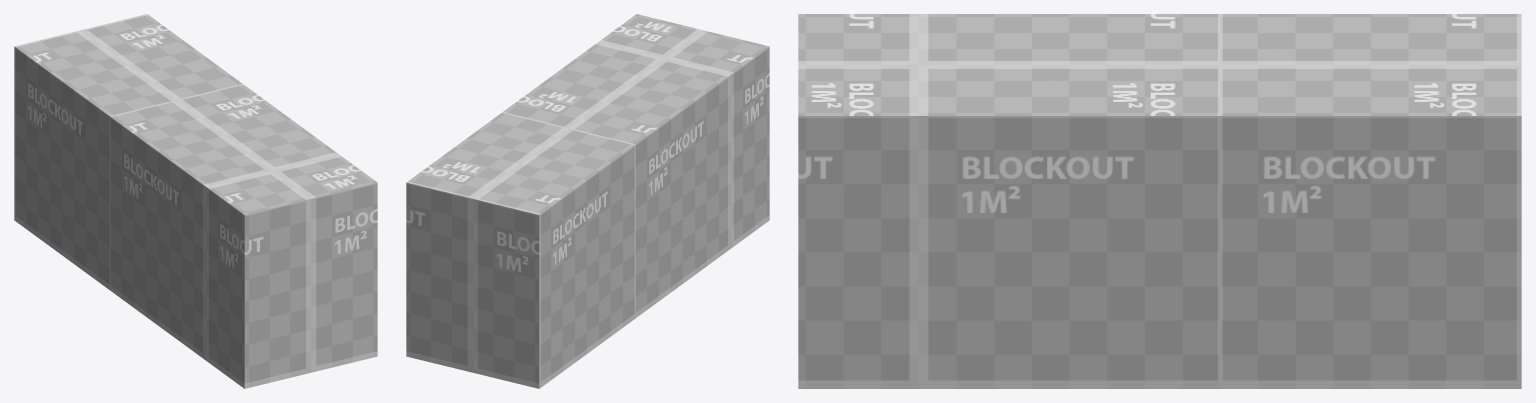
File: BlockoutEdgeFullThickJunctionOneWay.fbx
The picture shows the model from 3 angles, left to right: view 1: azimuth 30°, elevation 25°; view 2: azimuth 150°, elevation 25°; view 3: azimuth 270°, elevation 25°; orthographic projection. The views are drawn at different scales.
Visible parts, largest first — view 1: BlockoutEdgeFullThickJunctionOneWay; view 2: BlockoutEdgeFullThickJunctionOneWay; view 3: BlockoutEdgeFullThickJunctionOneWay.
Boxes of the visible parts, x1,y1,x2,y2 form: BlockoutEdgeFullThickJunctionOneWay: (14,14,377,388); BlockoutEdgeFullThickJunctionOneWay: (406,14,769,388); BlockoutEdgeFullThickJunctionOneWay: (798,14,1521,388).
Bounding box in the file's own units: 80 × 100 × 240.
